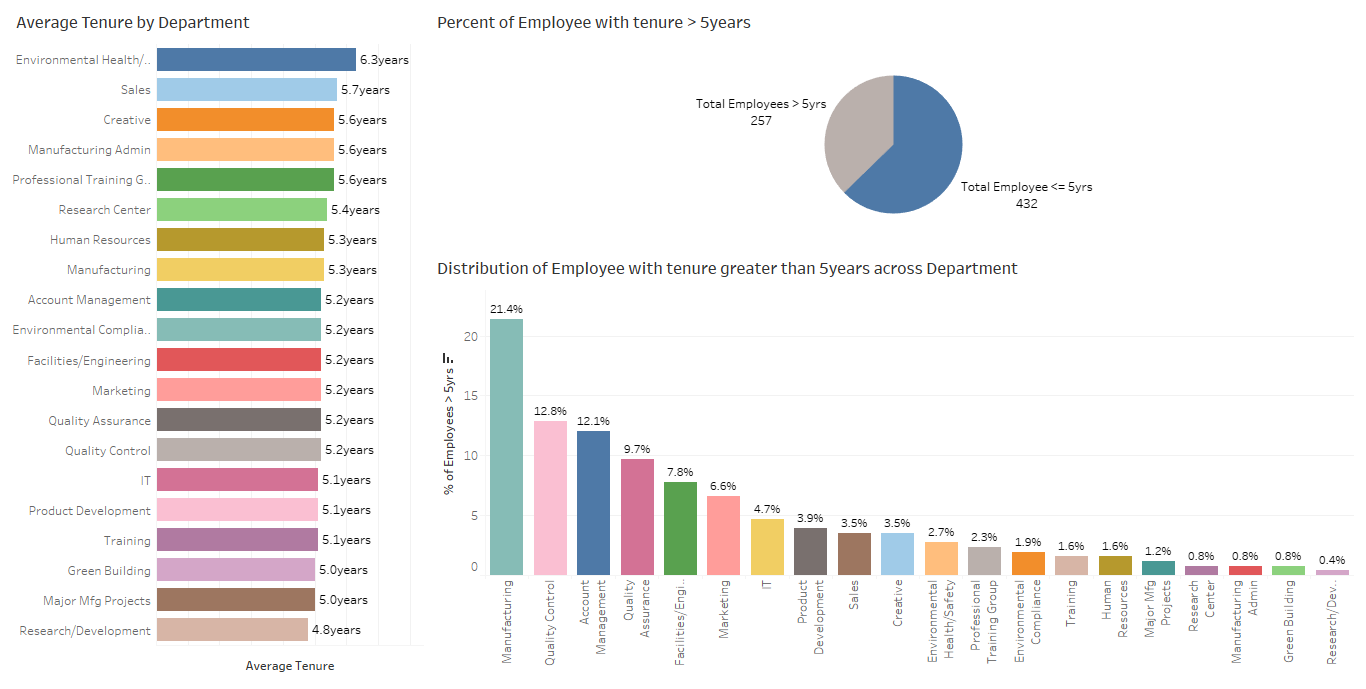

The dashboard page shown, as its layout file describes it:
{"tool":"tableau","page":{"name":"Dashboard 1","canvas":[1000,1000],"units":"permille","ordinal":0},"visuals":[{"type":"worksheet","title":"Sheet 1","mark":"Automatic","rows":["department"],"cols":["average_tenure"],"box":[6.9,13.5,307.2,973]},{"type":"worksheet","title":"Sheet 2","mark":"Pie","box":[314.2,13.5,678.9,351.2]},{"type":"worksheet","title":"Sheet 13","mark":"Automatic","rows":["% of Employees > 5yrs"],"cols":["department"],"box":[314.2,364.7,678.9,621.8]}]}

Visuals, with their boxes on the dashboard's canvas, which has no fixed pixel size, in thousandths of its width and height (x1, y1, x2, y2). These are canvas units, not pixel positions in the 1366x689 screenshot, which may show the page scaled, cropped or inside an application window:
"Sheet 1" worksheet: 7:14:314:986
"Sheet 2" worksheet (Pie marks): 314:14:993:365
"Sheet 13" worksheet: 314:365:993:986
